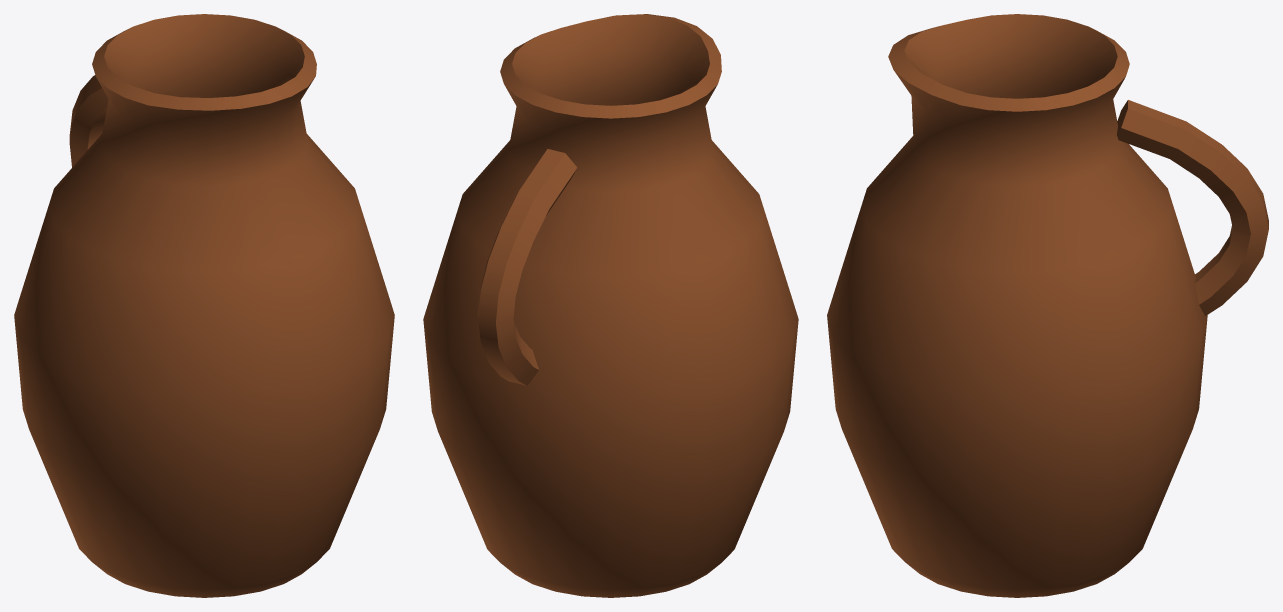
Rendered from krug.glb.
The picture shows the model from 3 angles, left to right: view 1: azimuth 30°, elevation 25°; view 2: azimuth 150°, elevation 25°; view 3: azimuth 270°, elevation 25°; orthographic projection.
Parts seen in each view (by area): view 1: krug; view 2: krug; view 3: krug.
Part boxes in pixels (x1,y1,x2,y2): krug: (14,14,394,597); krug: (423,14,798,597); krug: (827,14,1268,597).
Bounding box in the file's own units: 0.22 × 0.3187 × 0.2554.
